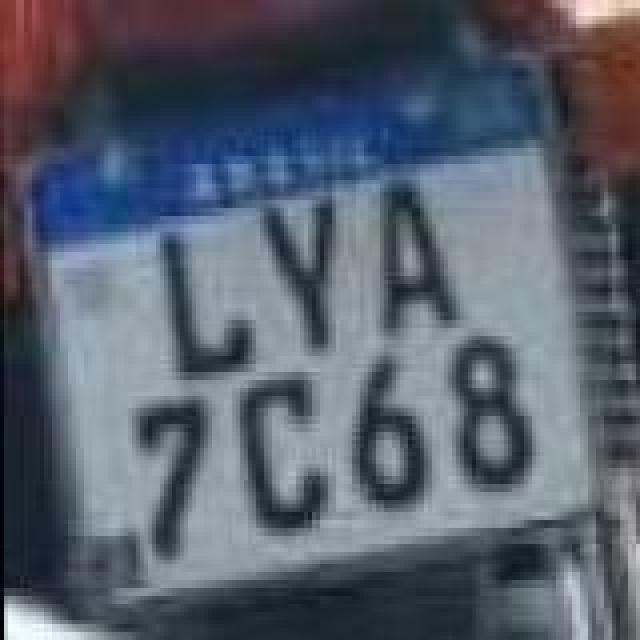6: (350, 354, 430, 510)
7: (130, 398, 210, 562)
8: (448, 338, 532, 494)
A: (378, 178, 458, 342)
C: (234, 374, 330, 538)
L: (164, 230, 256, 386)
Y: (258, 194, 338, 350)
